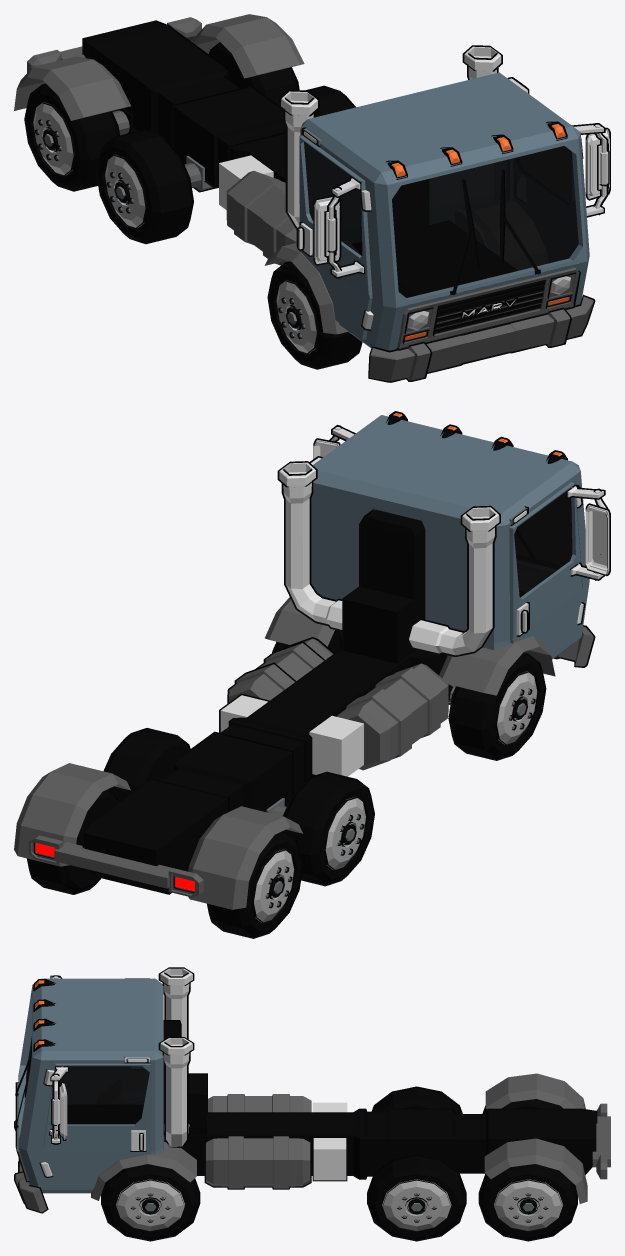
3 views of the same model, one above another, from view 1: azimuth 30°, elevation 25°; view 2: azimuth 150°, elevation 25°; view 3: azimuth 270°, elevation 25° (orthographic). The views are drawn at different scales.
Visible parts, largest first — view 1: Cube.2007_Cab_0, Cube.2007_Material.001_0, Cube.2033_Black_0, Cube.2040_Silver_0, Cube.2113_tire_0, Cube.2263_Outline_0, Cube.2266_Outline_0, Cube.2264_Outline_0, Cube.2110_tire_0, Cube.2041_Silver_0, Cube.2111_tire_0, Cube.2261_Outline_0 (+20 smaller); view 2: Cube.2007_Cab_0, Cube.2033_Black_0, Cube.2037_Black_0, Cube.2266_Outline_0, Cube.2263_Outline_0, Cube.2264_Outline_0, Cube.2113_tire_0, Cube.2038_Silver_0, Cube.2039_Silver_0, Cube.2111_tire_0, Cube.2007_Material.001_0, Cube.2262_Outline_0 (+18 smaller); view 3: Cube.2007_Cab_0, Cube.2033_Black_0, Cube.2122_Black_0, Cube.2007_Material.001_0, Cube.2114_tire_0, Cube.2115_tire_0, Cube.2112_tire_0, Cube.2264_Outline_0, Cube.2114_Cab_0, Cube.2115_Cab_0, Cube.2112_Cab_0, Cube.2263_Outline_0 (+19 smaller).
Part boxes in pixels (box(x1,y1,x2,y2)): Cube.2007_Cab_0: box(299, 72, 589, 350); Cube.2007_Material.001_0: box(304, 142, 578, 297); Cube.2033_Black_0: box(83, 22, 514, 297); Cube.2040_Silver_0: box(369, 296, 593, 381); Cube.2113_tire_0: box(98, 131, 192, 242); Cube.2263_Outline_0: box(14, 56, 130, 120); Cube.2266_Outline_0: box(226, 171, 296, 265); Cube.2264_Outline_0: box(192, 14, 304, 78); Cube.2110_tire_0: box(26, 85, 118, 189); Cube.2041_Silver_0: box(397, 268, 579, 348); Cube.2111_tire_0: box(269, 262, 360, 367); Cube.2261_Outline_0: box(463, 200, 547, 269); Cube.2007_Cab_0: box(311, 415, 589, 687); Cube.2033_Black_0: box(84, 593, 522, 894); Cube.2037_Black_0: box(343, 509, 425, 663); Cube.2266_Outline_0: box(337, 663, 448, 770); Cube.2263_Outline_0: box(188, 806, 302, 909); Cube.2264_Outline_0: box(14, 763, 130, 866); Cube.2113_tire_0: box(283, 773, 373, 884); Cube.2038_Silver_0: box(409, 507, 499, 655); Cube.2039_Silver_0: box(279, 462, 342, 629); Cube.2111_tire_0: box(450, 654, 544, 759); Cube.2007_Material.001_0: box(514, 492, 572, 597); Cube.2262_Outline_0: box(439, 636, 555, 695); Cube.2007_Cab_0: box(18, 978, 164, 1193); Cube.2033_Black_0: box(68, 1106, 596, 1178); Cube.2122_Black_0: box(206, 1136, 310, 1188); Cube.2007_Material.001_0: box(26, 1036, 149, 1124); Cube.2114_tire_0: box(368, 1156, 464, 1239); Cube.2115_tire_0: box(480, 1164, 576, 1239); Cube.2112_tire_0: box(102, 1164, 198, 1239); Cube.2264_Outline_0: box(484, 1138, 587, 1203); Cube.2114_Cab_0: box(382, 1179, 451, 1230); Cube.2115_Cab_0: box(494, 1179, 562, 1230); Cube.2112_Cab_0: box(116, 1179, 184, 1230); Cube.2263_Outline_0: box(485, 1073, 585, 1109).
Bounding box in the file's own units: 3.87 × 3.14 × 8.7.
